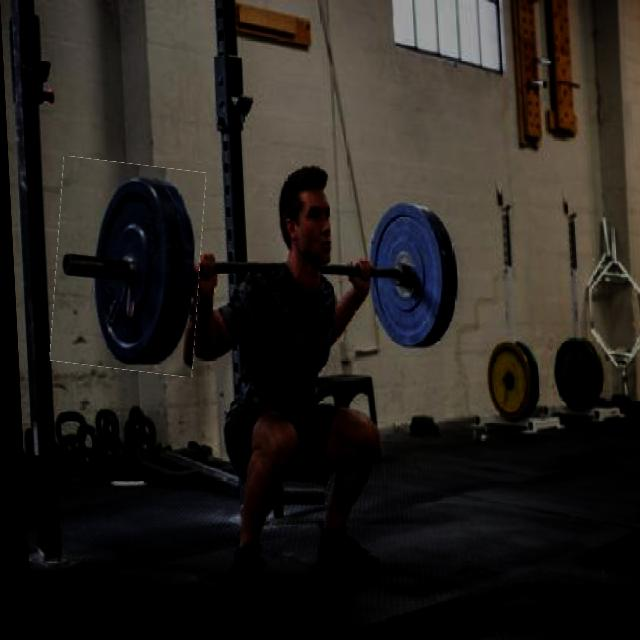barbell: (45, 161, 207, 375)
